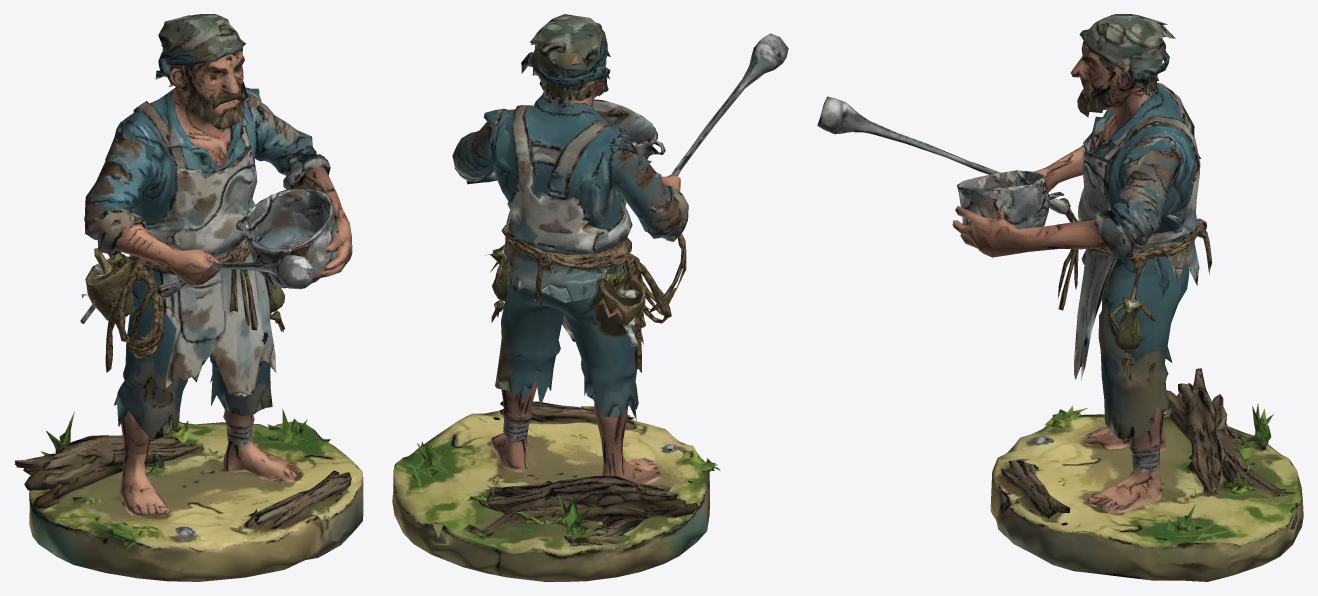
File: sw-cook.glb
3 renders of one model, left to right at view 1: azimuth 30°, elevation 25°; view 2: azimuth 150°, elevation 25°; view 3: azimuth 270°, elevation 25°, orthographic. The views are drawn at different scales.
Parts seen in each view (by area): view 1: geometry_0; view 2: geometry_0; view 3: geometry_0.
Boxes of the visible parts, x1,y1,x2,y2 form: geometry_0: (14, 14, 363, 581); geometry_0: (392, 14, 788, 581); geometry_0: (817, 14, 1303, 581).
Bounding box in the file's own units: 0.5418 × 0.8874 × 0.786.
1 material, 1 textured.
